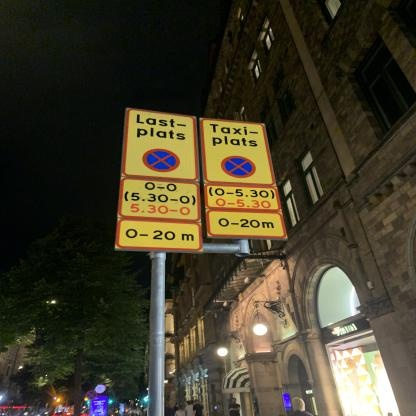lastplats: (122, 108, 198, 182)
